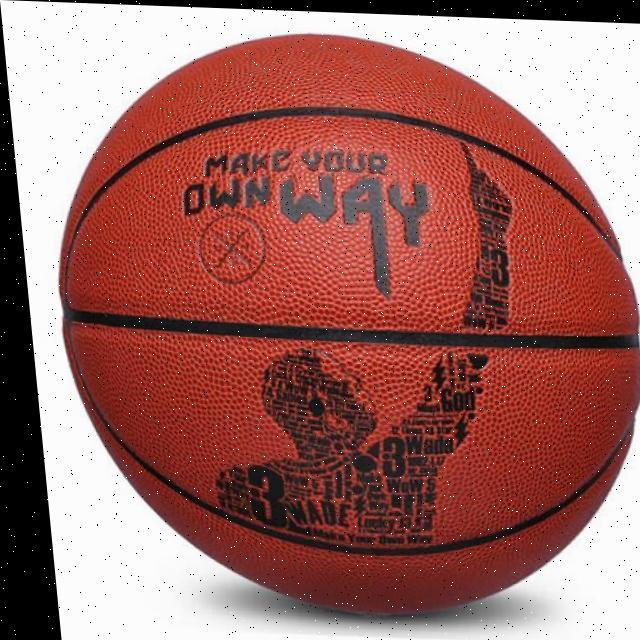Basketball: (35, 25, 640, 624)
